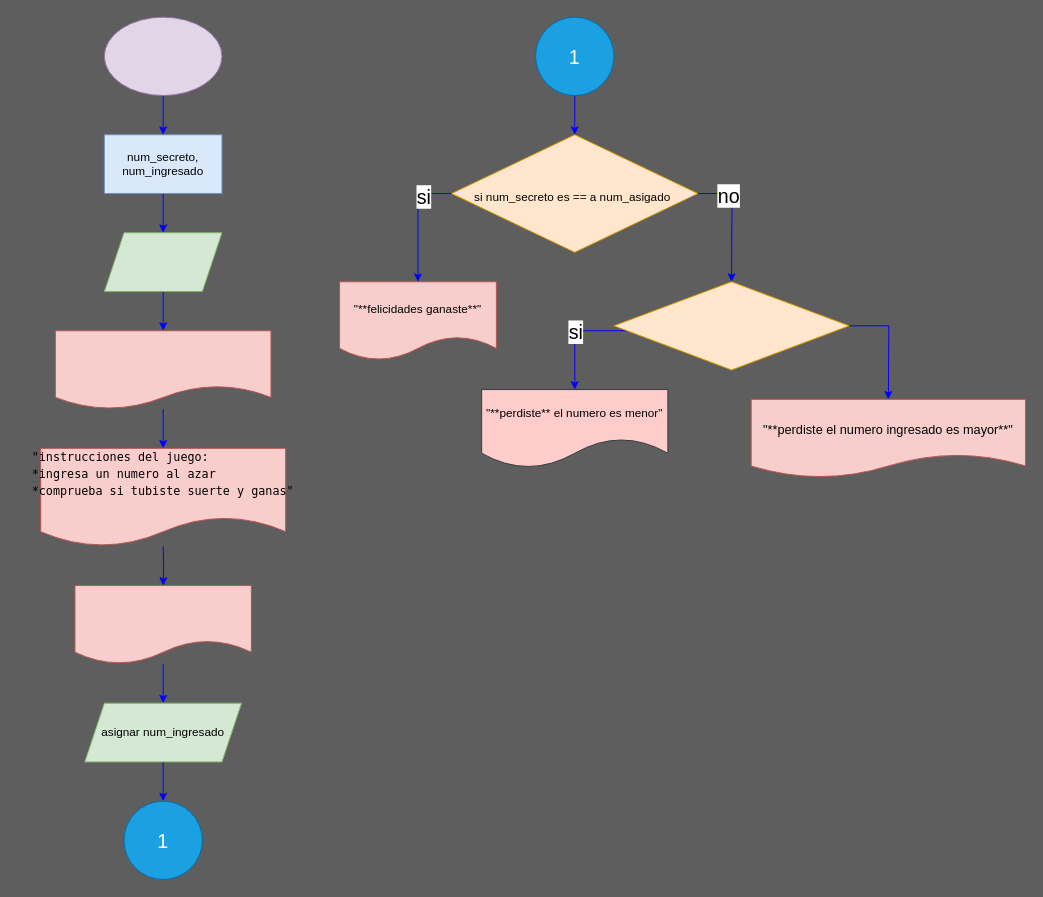
This 1043x897 diagram has some shape labels left out. Each missing label, with the centre of its shape:
"bienvenido al juego *numero secreto*": pixel 162 369
"ingresa un numero del 1 al 10": pixel 162 624
inicio: pixel 162 56
num_secreto = 8: pixel 162 262
si num_secreto es > a num_asignado: pixel 731 325
